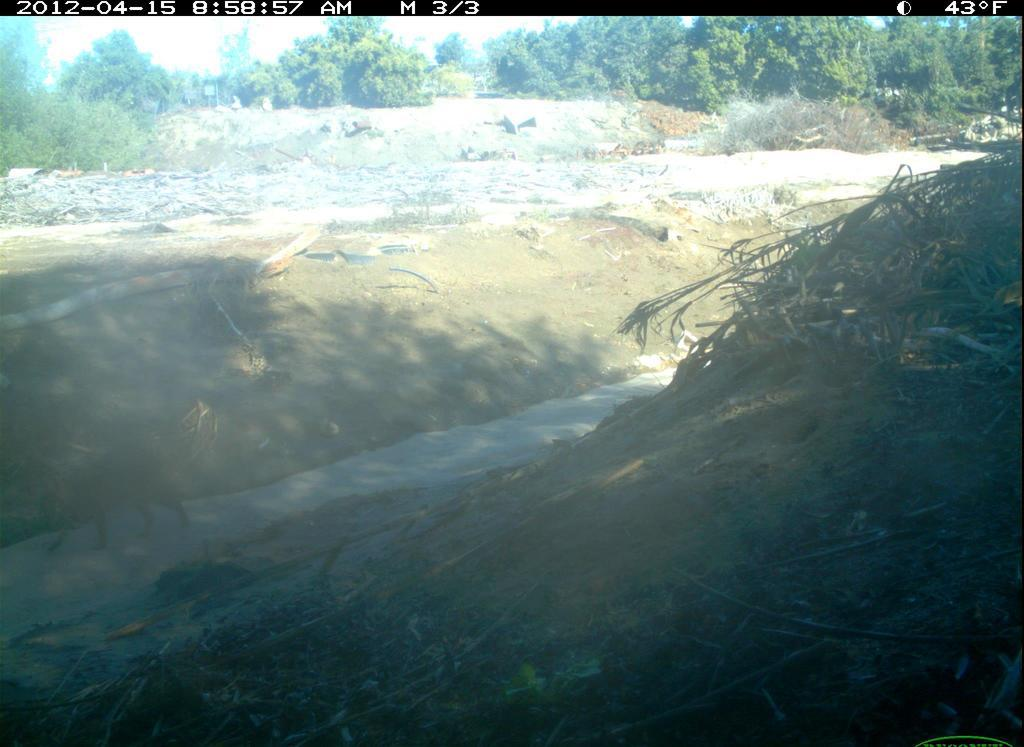bobcat: (31, 415, 214, 577)
